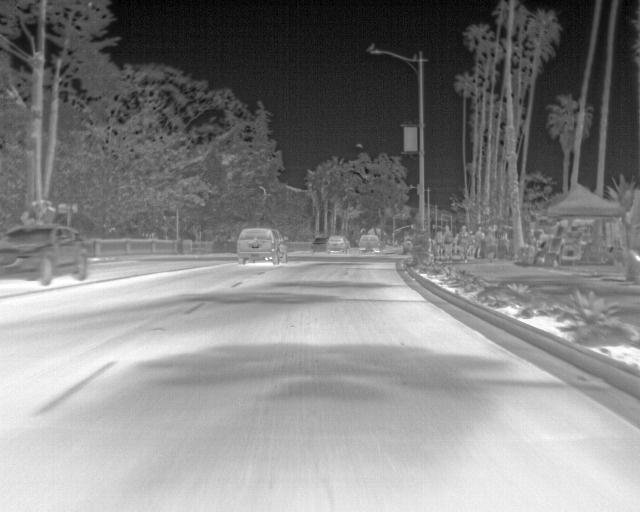bicycle: (0, 223, 92, 283), (235, 226, 290, 264), (354, 232, 381, 253), (326, 233, 349, 252), (309, 237, 325, 254)
empty: (456, 223, 472, 261), (441, 223, 455, 261), (473, 225, 488, 259)
